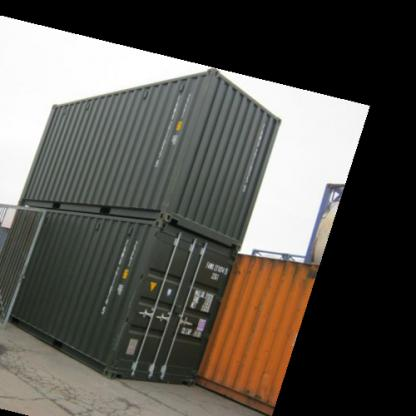Damage: (108, 281, 143, 353), (228, 255, 262, 280), (280, 261, 321, 281), (241, 385, 260, 402)
